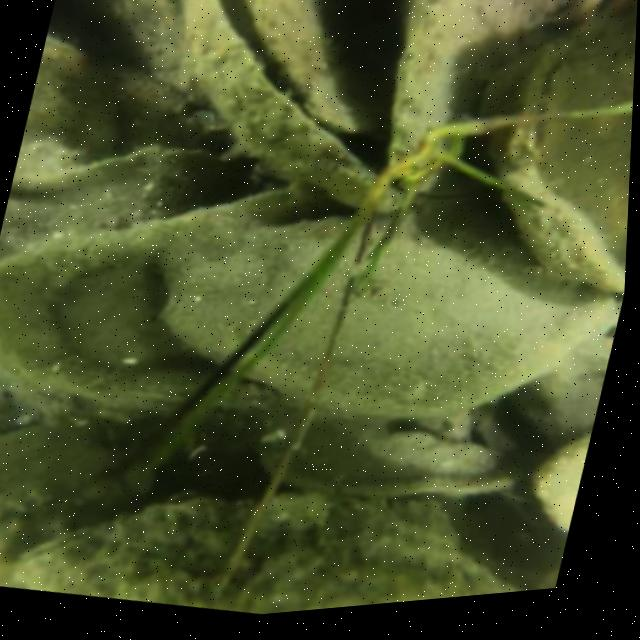Oyster-Closed: (388, 422, 493, 477)
Oyster-Indeterminate: (157, 214, 618, 422), (0, 181, 361, 409), (0, 498, 518, 611), (479, 0, 637, 308), (0, 423, 156, 567), (247, 0, 353, 125), (93, 0, 195, 101), (515, 334, 607, 442), (33, 39, 116, 155), (533, 435, 588, 529)
Oyster-Open: (182, 0, 454, 211)
